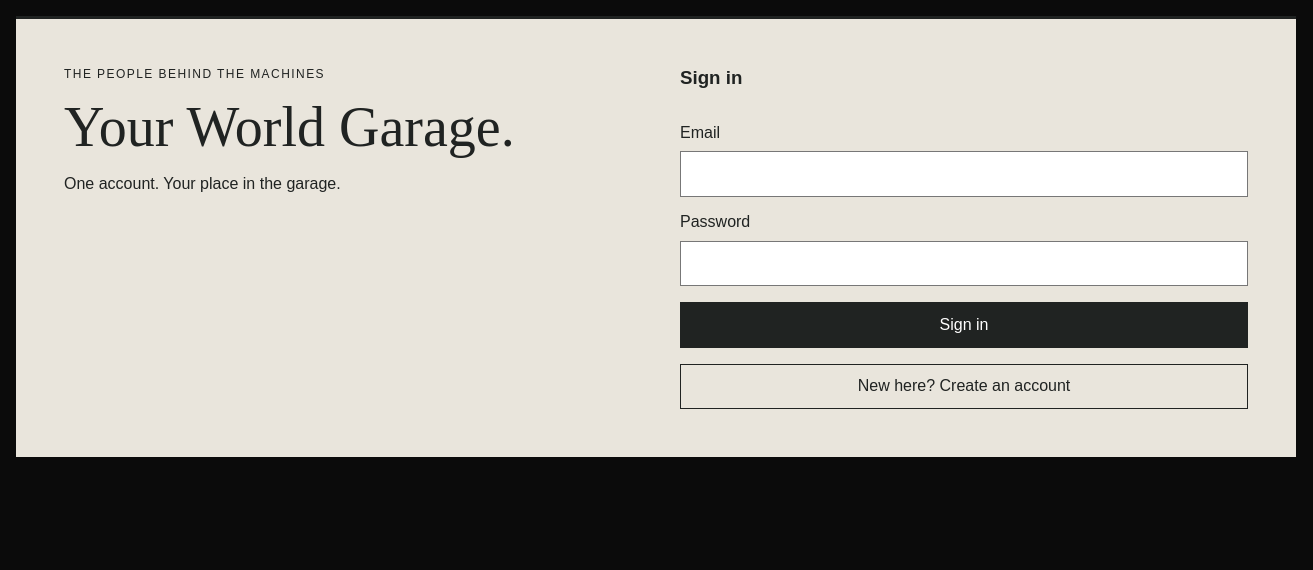
Test: account authentication › shows token expiry without retrying a write automatically
The image size is (1313, 570).
Step 1. Type "owner@example.com" into the field with id "account-email" → (964, 174), box top-left (680, 151), bottom-right (1248, 197)
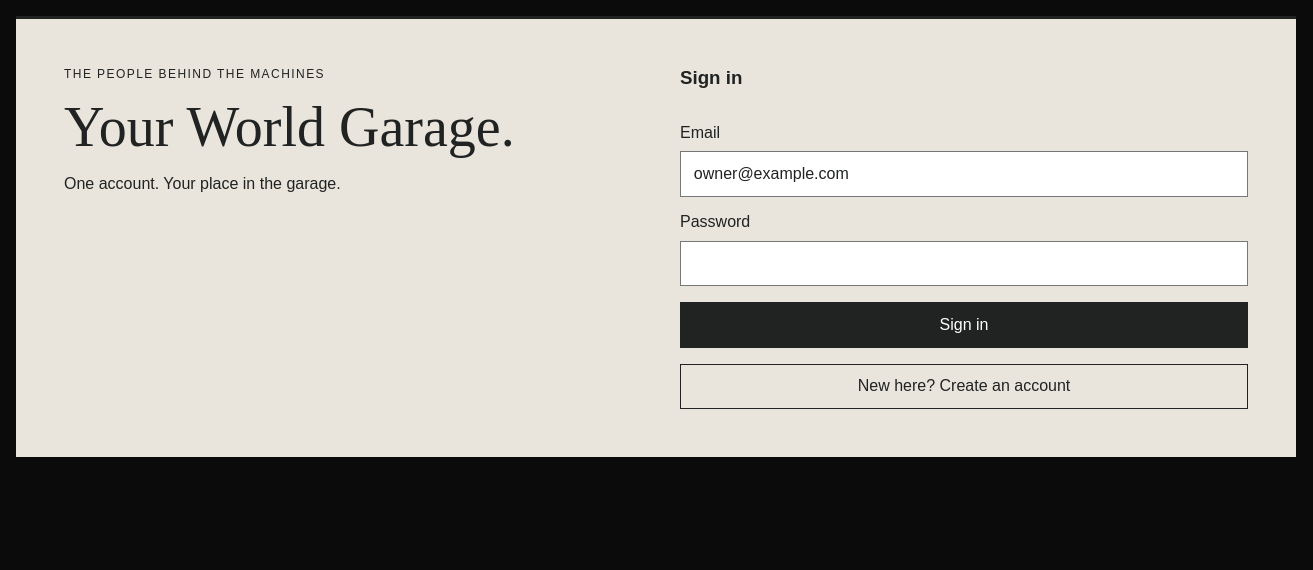
Step 2. Type "Garage@2026" into the password field with id "account-password" → (964, 263), box top-left (680, 240), bottom-right (1248, 286)
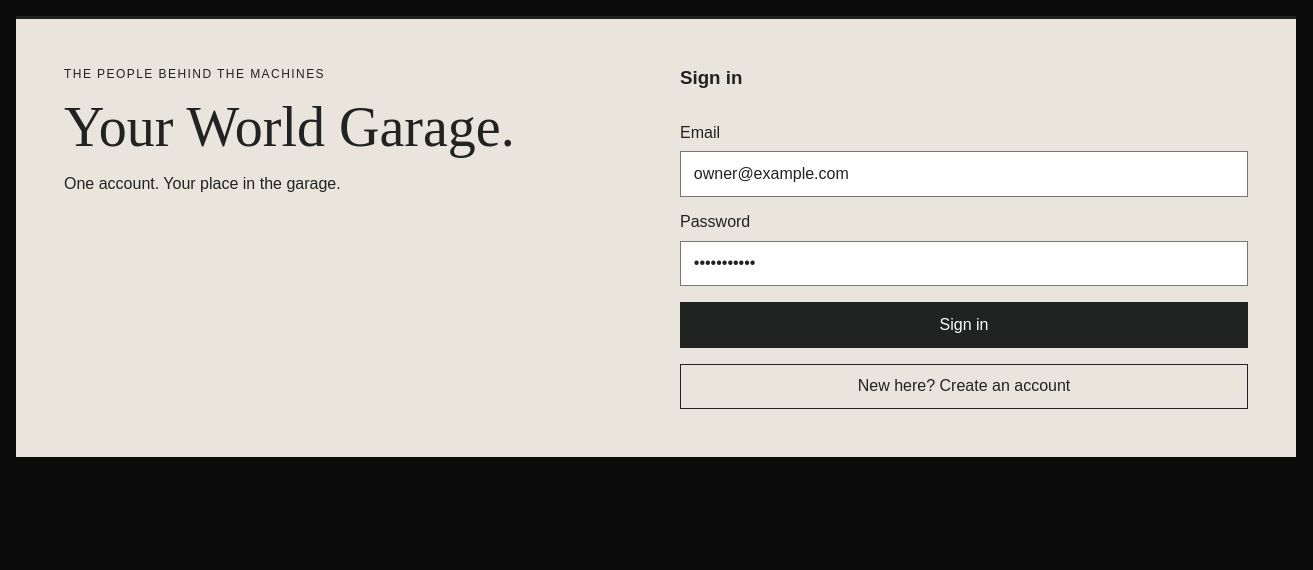
Step 3. Submit the form, box top-left (680, 67), bottom-right (1248, 409)
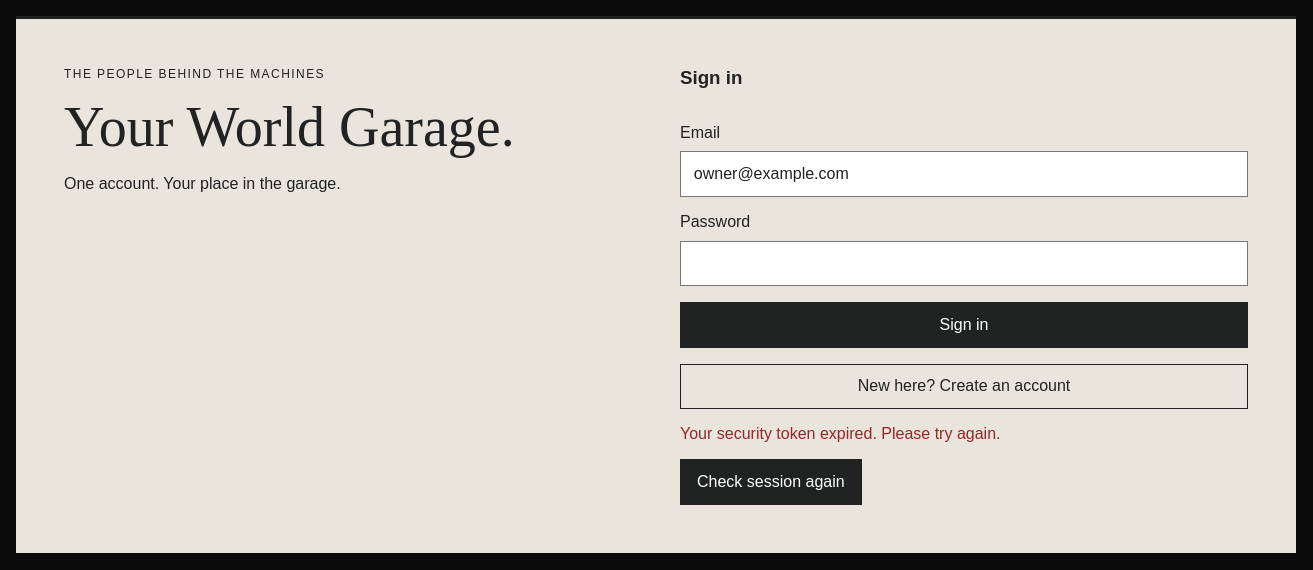
Now the message "Your security token expired. Please try again. Check session again" is shown, box top-left (680, 425), bottom-right (1000, 505)
